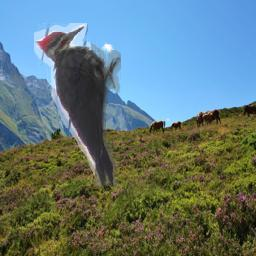Woodpecker: (35, 24, 122, 187)
